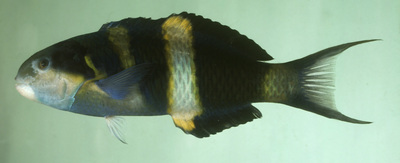fish: (13, 11, 384, 145)
